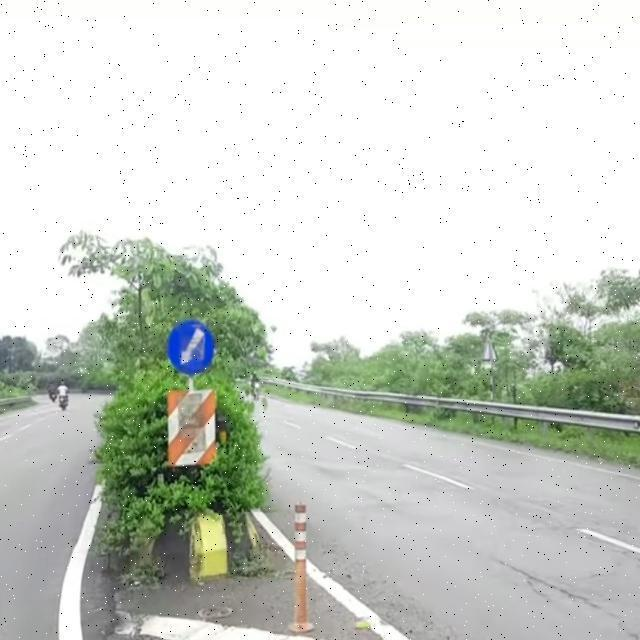compulsary keep left: (168, 321, 230, 375)
